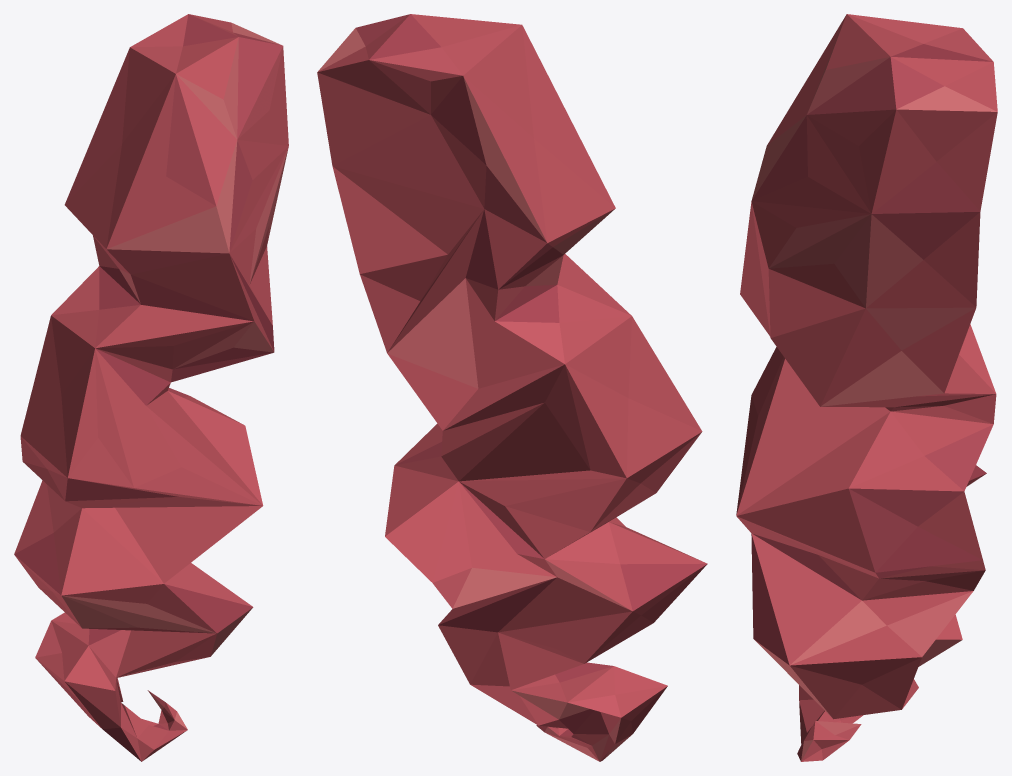
File: twintail_left.glb
The picture shows the model from 3 angles, left to right: view 1: azimuth 30°, elevation 25°; view 2: azimuth 150°, elevation 25°; view 3: azimuth 270°, elevation 25°; orthographic projection. The views are drawn at different scales.
Visible parts, largest first — view 1: Twin-tail • front-reference folded silhouette.L; view 2: Twin-tail • front-reference folded silhouette.L; view 3: Twin-tail • front-reference folded silhouette.L.
Part boxes in pixels (box(x1,y1,x2,y2)): Twin-tail • front-reference folded silhouette.L: box(14, 14, 288, 761); Twin-tail • front-reference folded silhouette.L: box(317, 14, 707, 761); Twin-tail • front-reference folded silhouette.L: box(736, 14, 997, 761).
Size of the model in its own units: 1.91 by 4.52 by 1.37.
